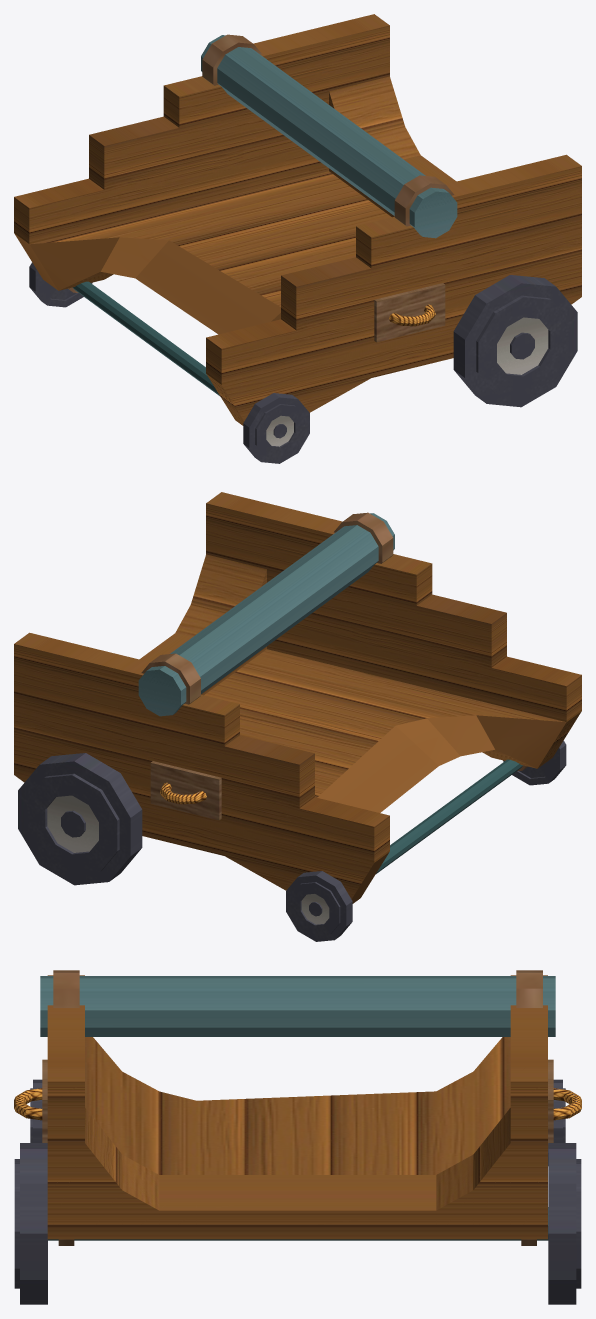
File: Estructura.fbx
3 views of the same model, one above another, from view 1: azimuth 30°, elevation 25°; view 2: azimuth 150°, elevation 25°; view 3: azimuth 270°, elevation 25° (orthographic). The views are drawn at different scales.
Visible parts, largest first — view 1: Estructura; view 2: Estructura; view 3: Estructura.
Part boxes in pixels (bbox=[...]): Estructura: bbox=[14, 14, 581, 463]; Estructura: bbox=[14, 492, 581, 941]; Estructura: bbox=[14, 970, 581, 1304].
Bounding box in the file's own units: 322 × 201 × 365.
